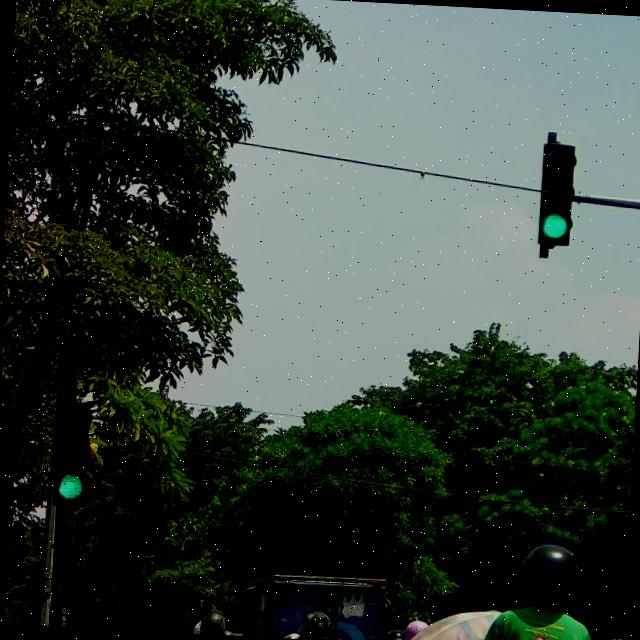green_light: (53, 402, 91, 508), (540, 144, 576, 248)
